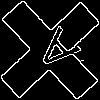A: (25, 25, 82, 81)
